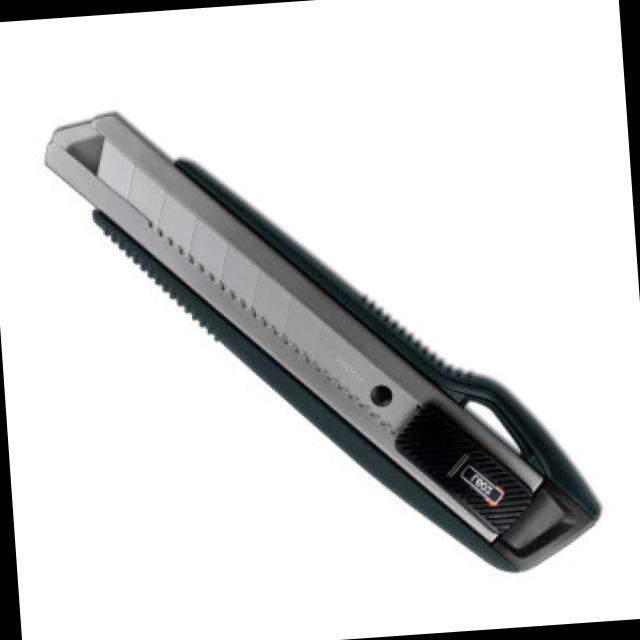cutter: (23, 57, 626, 616)
